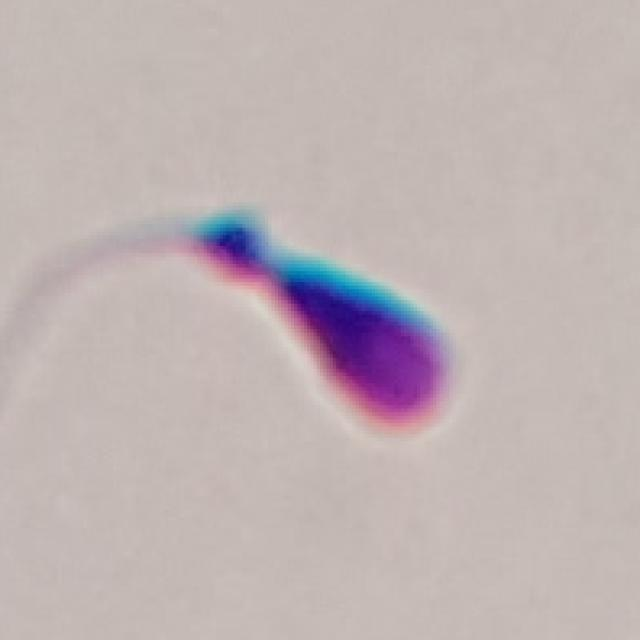abnormal sperm: (0, 220, 503, 458)
